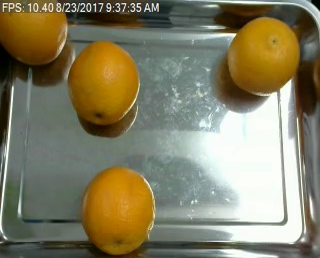Orange: (80, 166, 155, 253), (67, 38, 140, 124), (227, 16, 300, 95), (0, 1, 69, 62)
